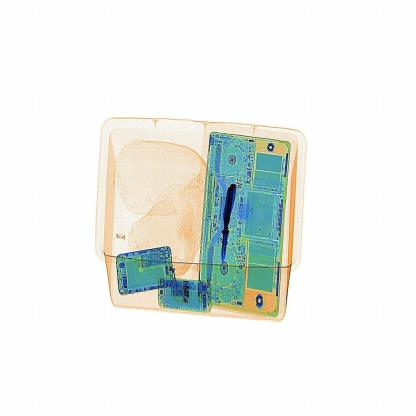gun: (209, 169, 245, 271)
